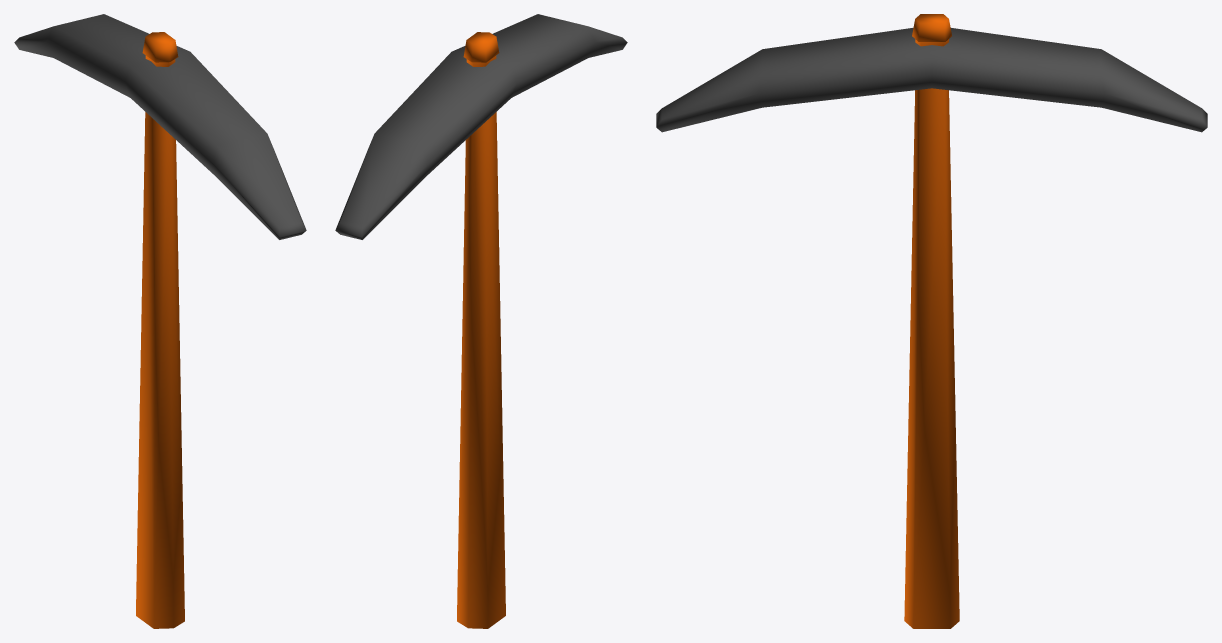
File: pickaxe.gltf
3 renders of one model, left to right at view 1: azimuth 30°, elevation 25°; view 2: azimuth 150°, elevation 25°; view 3: azimuth 270°, elevation 25°, orthographic. The views are drawn at different scales.
Visible parts, largest first — view 1: Pickaxe_Cube; view 2: Pickaxe_Cube; view 3: Pickaxe_Cube.
Part boxes in pixels (x1=…): Pickaxe_Cube: x1=14, y1=14, x2=306, y2=628; Pickaxe_Cube: x1=335, y1=14, x2=627, y2=628; Pickaxe_Cube: x1=656, y1=14, x2=1207, y2=628.
Size of the model in its own units: 0.1539 by 1.2 by 0.9944.
